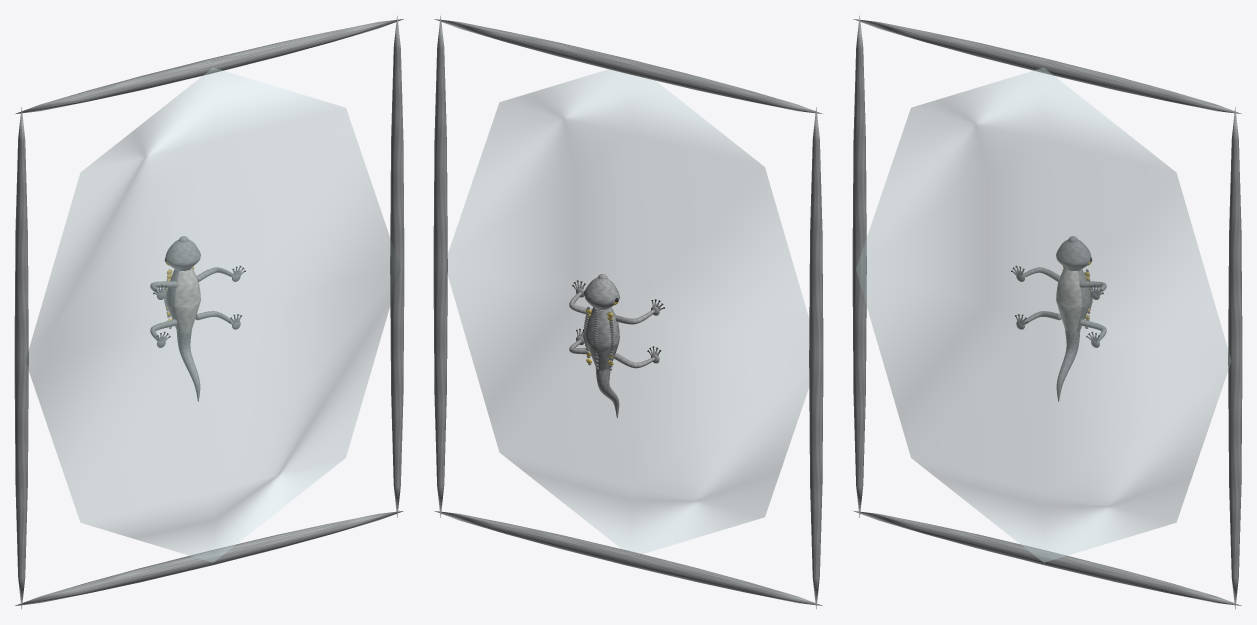
The model's file is birds-and-reptiles-hd-gecko-on-glass-7c4f2b88__28112.glb.
The picture shows the model from 3 angles, left to right: view 1: azimuth 30°, elevation 25°; view 2: azimuth 150°, elevation 25°; view 3: azimuth 330°, elevation 25°; orthographic projection.
Parts seen in each view (by area): view 1: gecko-on-glass; view 2: gecko-on-glass; view 3: gecko-on-glass.
Part boxes in pixels (left/top/right/bottom): gecko-on-glass: left=14, top=15, right=404, bottom=609; gecko-on-glass: left=433, top=15, right=823, bottom=609; gecko-on-glass: left=852, top=15, right=1242, bottom=609.
Bounding box in the file's own units: 0.7281 × 0.9 × 0.1279.
6 materials, 3 textured.
